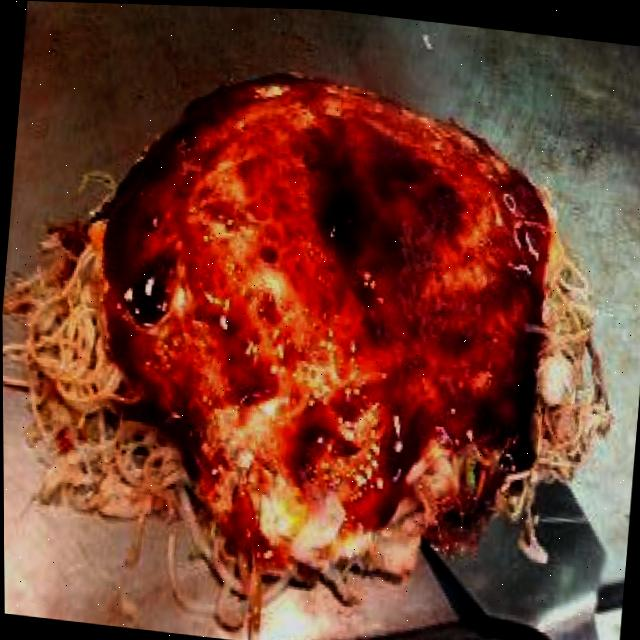蛋糕甜品: (0, 16, 640, 622)
